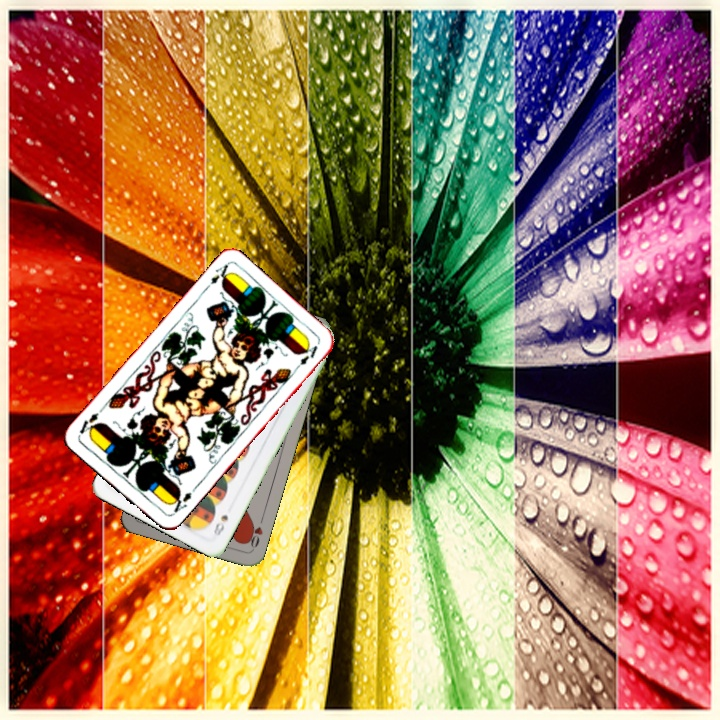EA: (166, 483, 199, 517), (200, 260, 233, 294)
HO: (243, 512, 266, 552)
S8: (209, 511, 231, 539)
